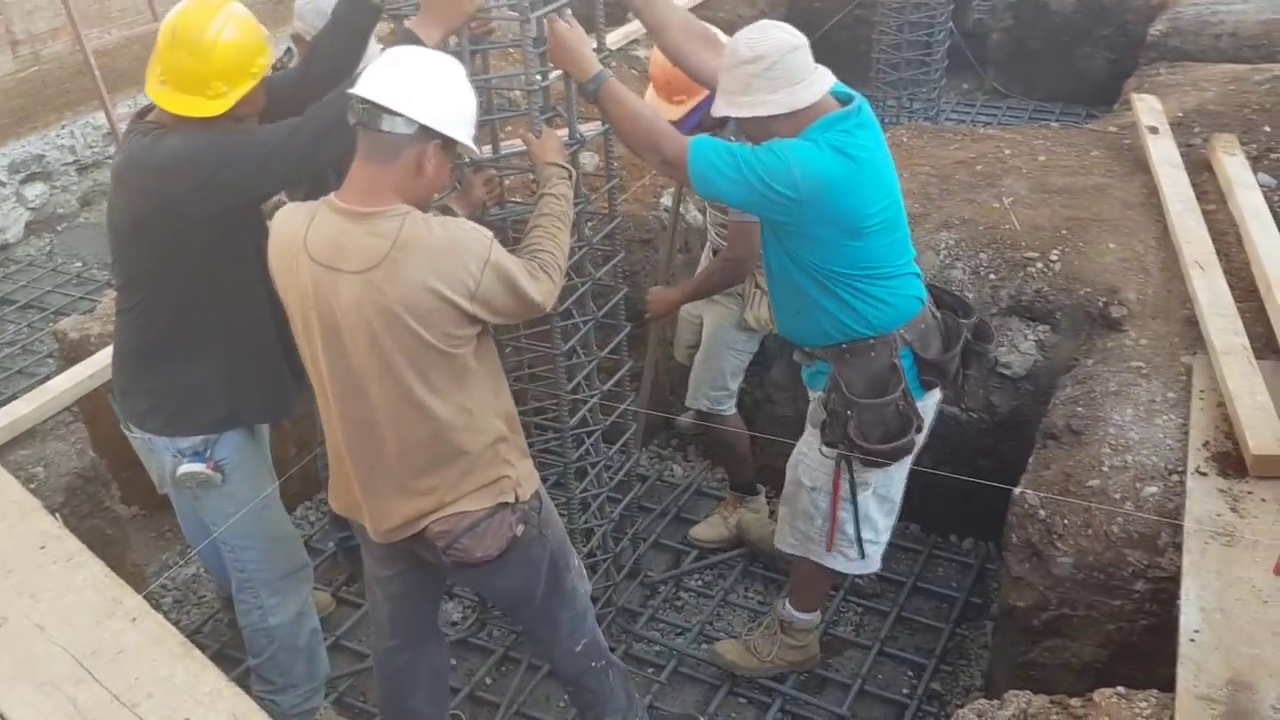helmet: (136, 3, 269, 124), (341, 44, 478, 156), (644, 28, 726, 126)
helmet-off: (702, 18, 852, 145)
helmet-on: (321, 35, 480, 222), (124, 2, 288, 141), (643, 28, 725, 148)
person: (552, 0, 945, 682), (268, 44, 648, 720), (111, 0, 388, 716), (643, 17, 786, 560)
